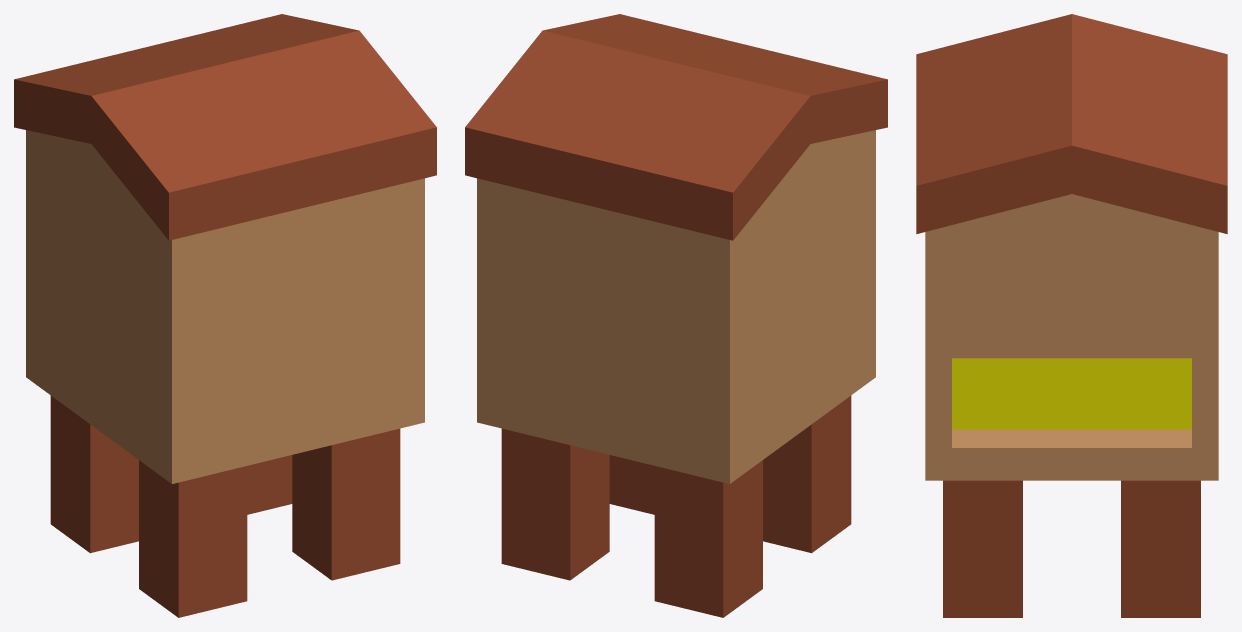
Rendered from Beehouse.fbx.
The picture shows the model from 3 angles, left to right: view 1: azimuth 30°, elevation 25°; view 2: azimuth 150°, elevation 25°; view 3: azimuth 270°, elevation 25°; orthographic projection.
Visible parts, largest first — view 1: House, Roof, Legs; view 2: House, Roof, Legs; view 3: House, Roof, Legs.
Boxes of the visible parts, bbox=[...] form: House: bbox=[26, 130, 424, 483]; Roof: bbox=[14, 14, 436, 240]; Legs: bbox=[50, 395, 400, 617]; House: bbox=[477, 130, 875, 483]; Roof: bbox=[465, 14, 887, 240]; Legs: bbox=[501, 395, 851, 617]; House: bbox=[925, 194, 1218, 480]; Roof: bbox=[916, 14, 1227, 234]; Legs: bbox=[943, 480, 1200, 617].
Size of the model in its own units: 700 by 1200 by 700.
